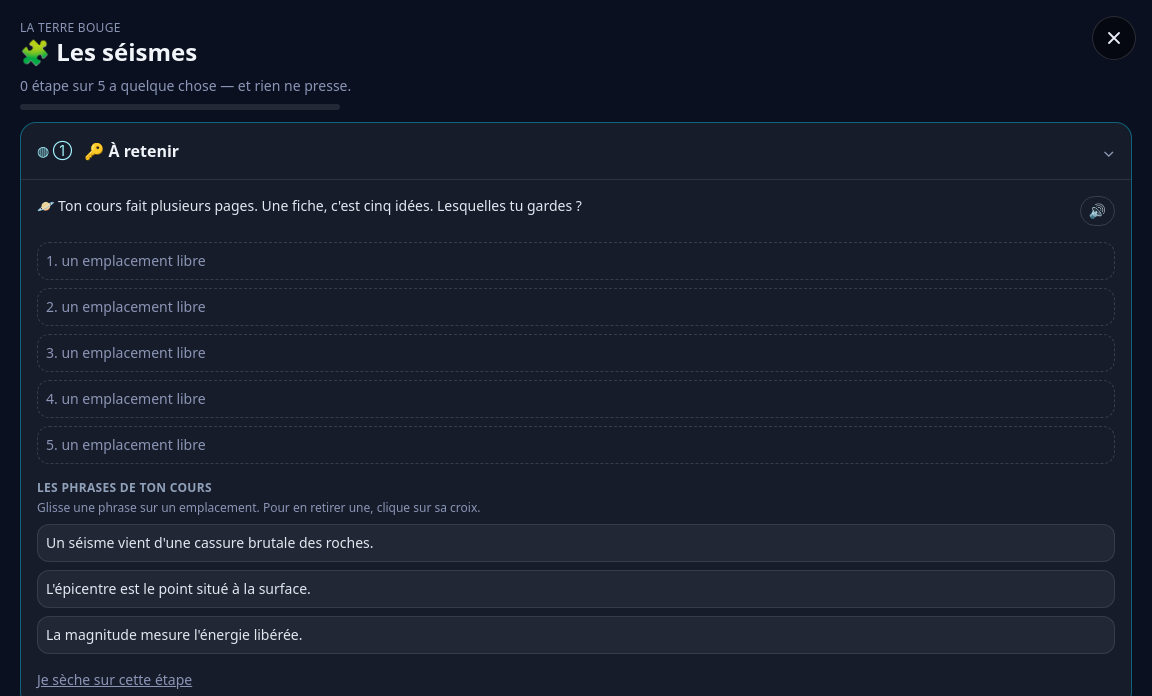
Test: AtelierPage › place une phrase au GLISSER et la sauvegarde AUSSITÔT
This screenshot has width=1152, height=696.
Press the mouse on the button "L'épicentre est le point situé à la surface." at (178,588), box [37, 570, 1115, 608]
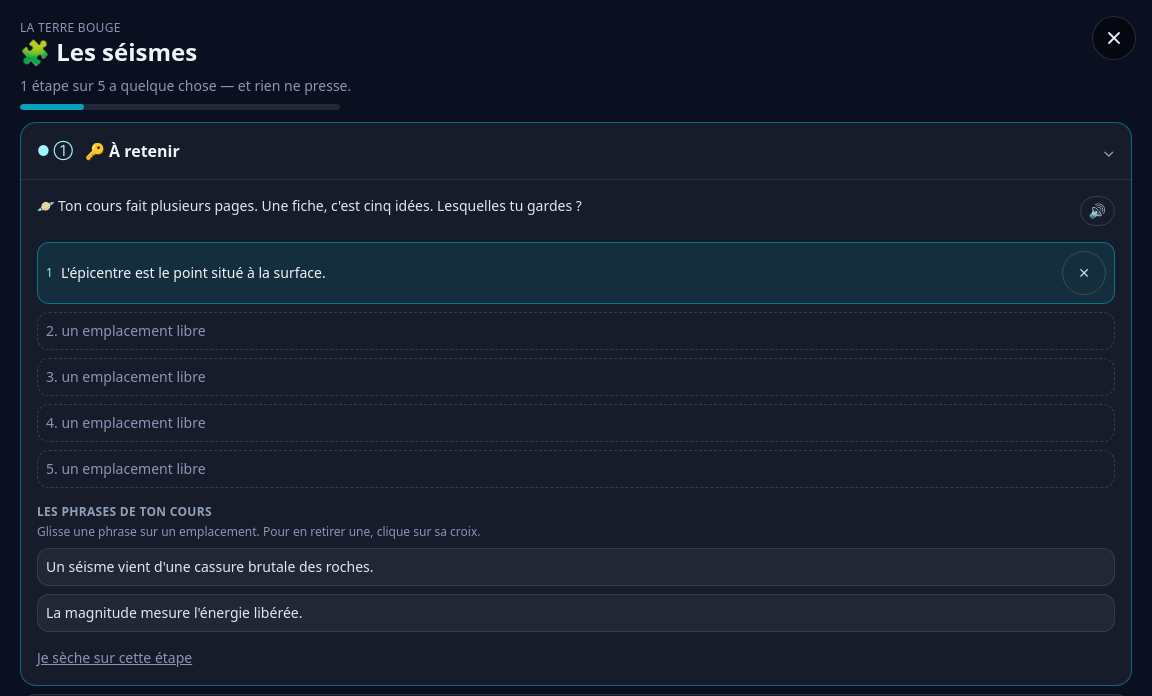
Now the text "2. un emplacement libre" is shown 4 times, box [37, 312, 1115, 350]; [37, 358, 1115, 396]; [37, 404, 1115, 442]; [37, 450, 1115, 488]
